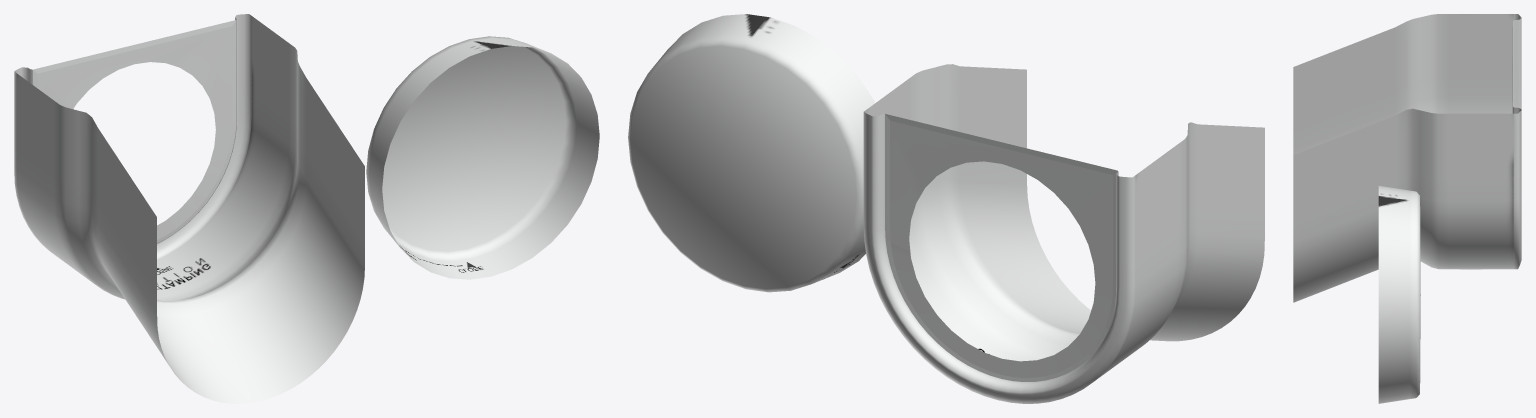
File: coffee_machine_right_group_main_model_10.obj
The picture shows the model from 3 angles, left to right: view 1: azimuth 30°, elevation 25°; view 2: azimuth 150°, elevation 25°; view 3: azimuth 270°, elevation 25°; orthographic projection. The views are drawn at different scales.
Size of the model in its own units: 0.4371 by 0.2181 by 0.1968.
Materials: 1 (1 with a texture image).
